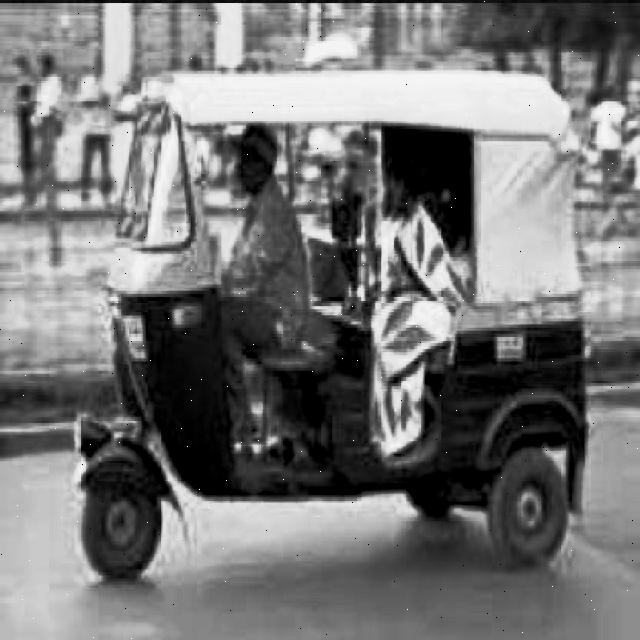Auto-Rickshaw: (72, 64, 606, 588)
